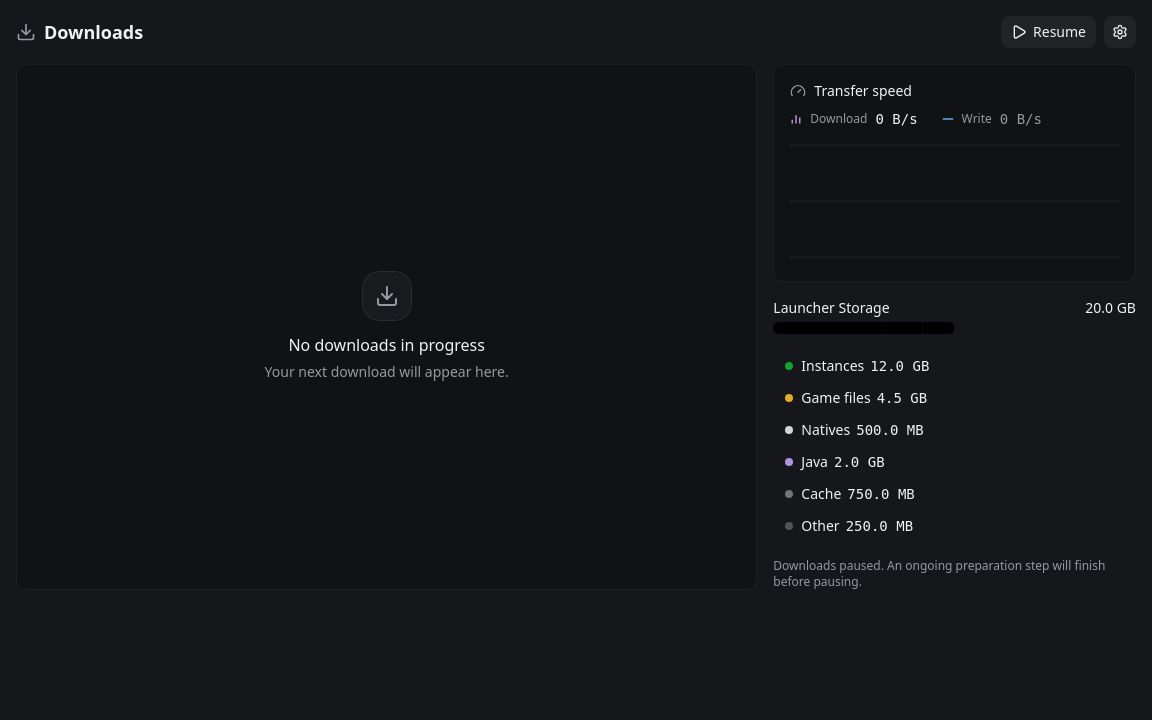
Test: DownloadsPage › uses one resume control when the global queue is paused without active items
Click the button "Resume": (1048, 32) left=1001, top=16, right=1096, bottom=48
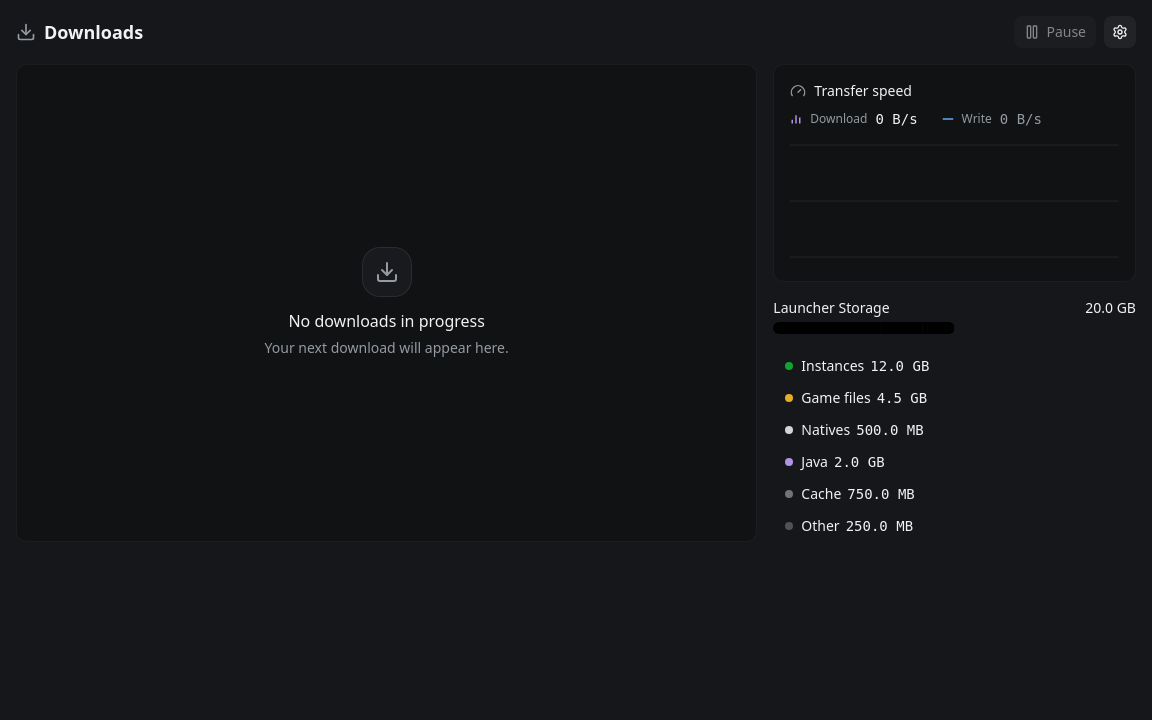
Check: the button "Pause" is disabled, box left=1014, top=16, right=1096, bottom=48
